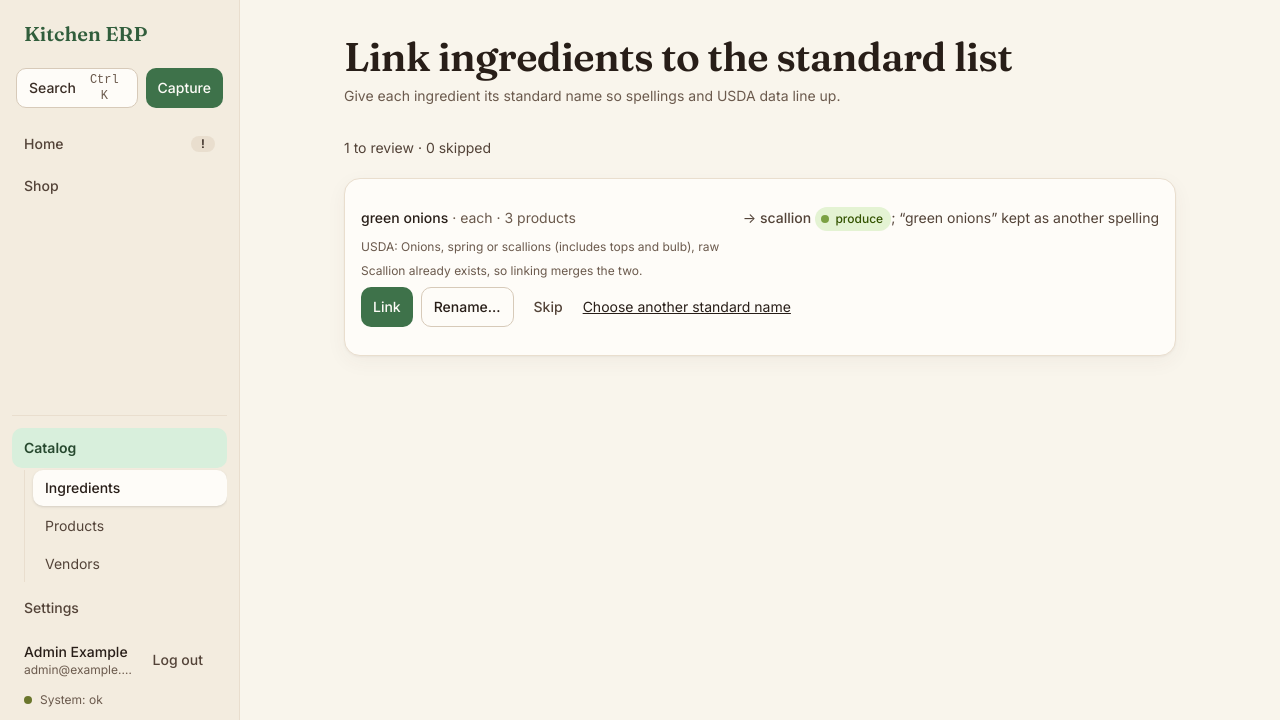
Test: link page (1G) › opens the merge panel on a taken name, focuses Cancel, and merges with the ticked measures
Click the button "Link" at (387, 307), box [361,287,413,327]
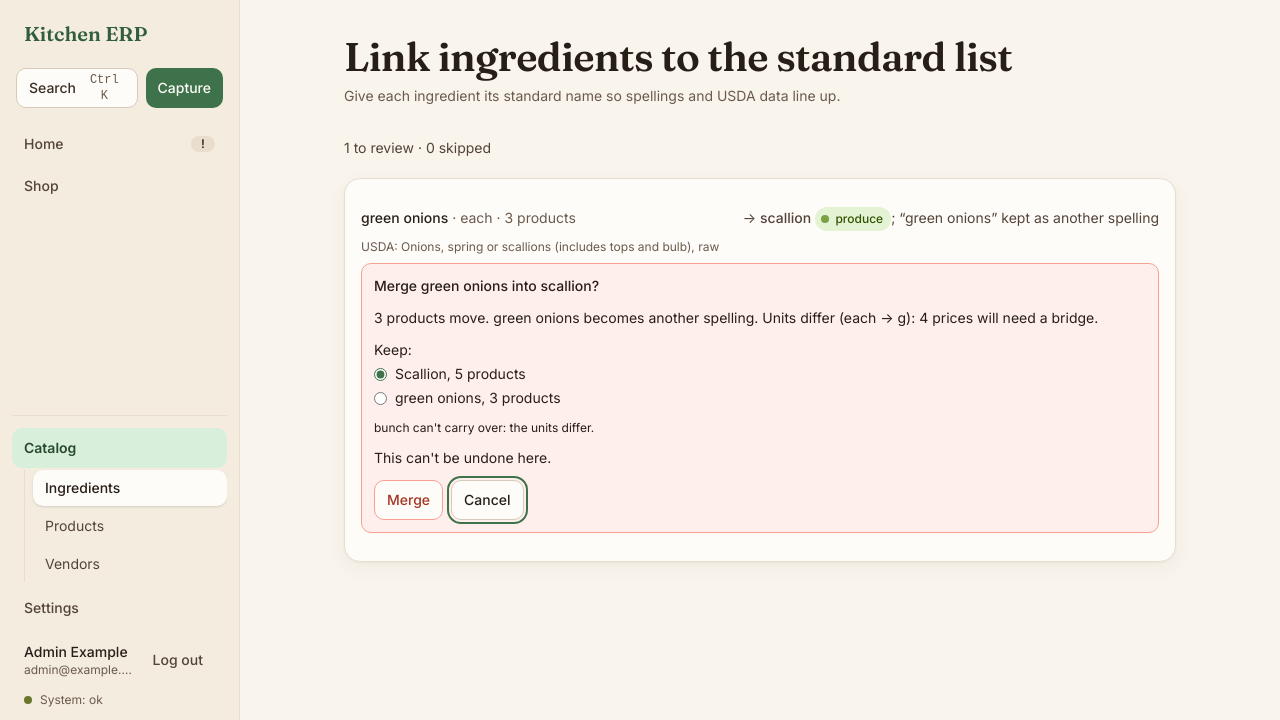
Expected: the element "Merge green onions into scallion?" shows "Units differ (each → g): 4 prices will need a bridge.", [361,263,1159,533]
Expected: the element "Merge green onions into scallion?" shows "3 products move. green onions becomes another spelling.", [361,263,1159,533]
Expected: the radio button labelled "Scallion, 5 products" is checked, [374,368,387,380]
Click the button "Merge" at (408, 500), box [374,480,443,520]
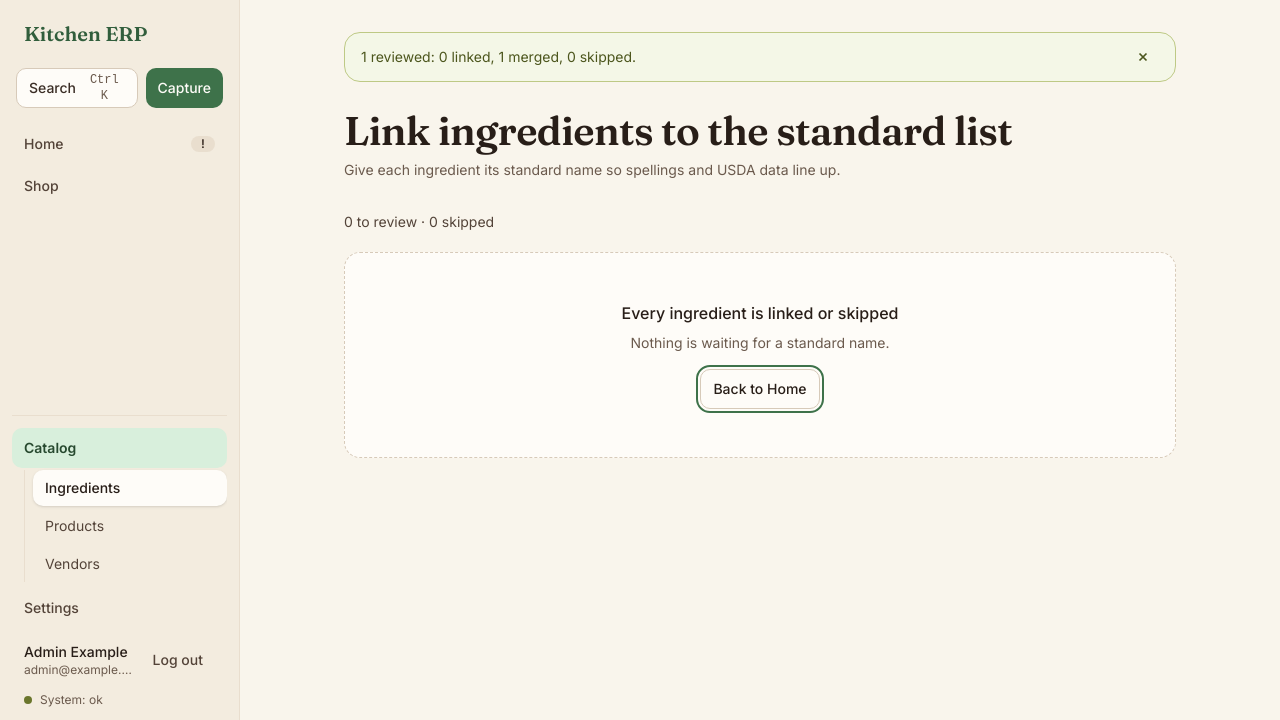
Expected: the text "Every ingredient is linked or skipped" is shown, [622,303,898,323]
Expected: the message with test id "notice" reads "1 reviewed: 0 linked, 1 merged, 0 skipped.", [361,48,636,65]
